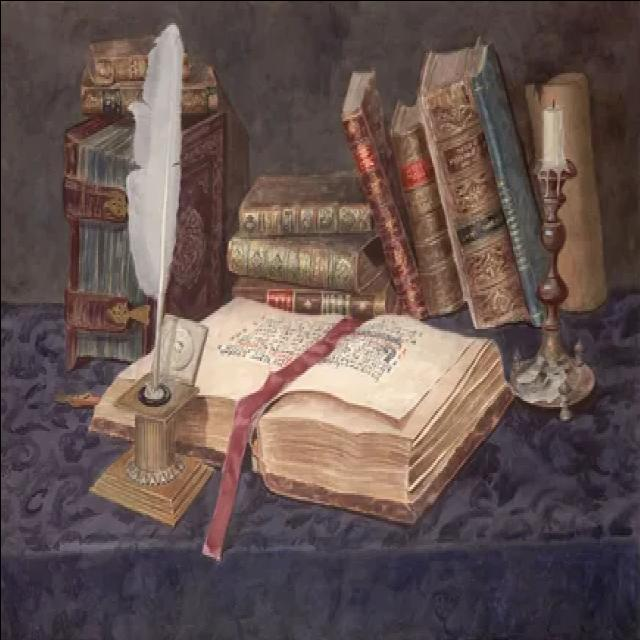book: (92, 266, 516, 524)
